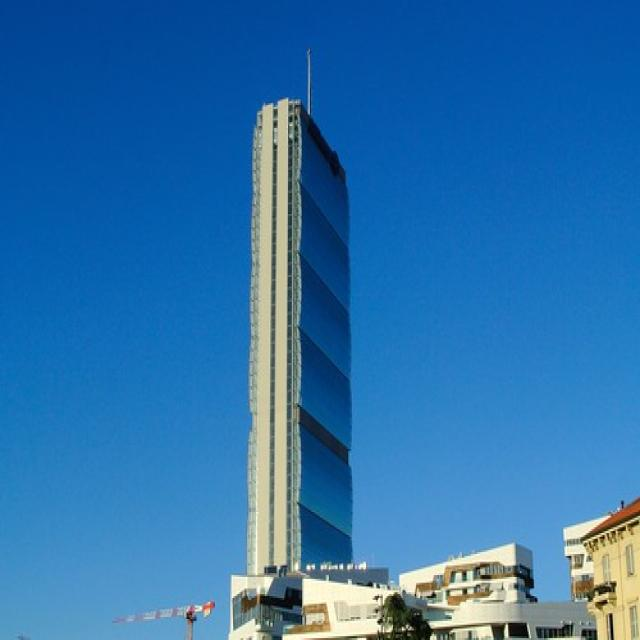building: (242, 88, 358, 575)
